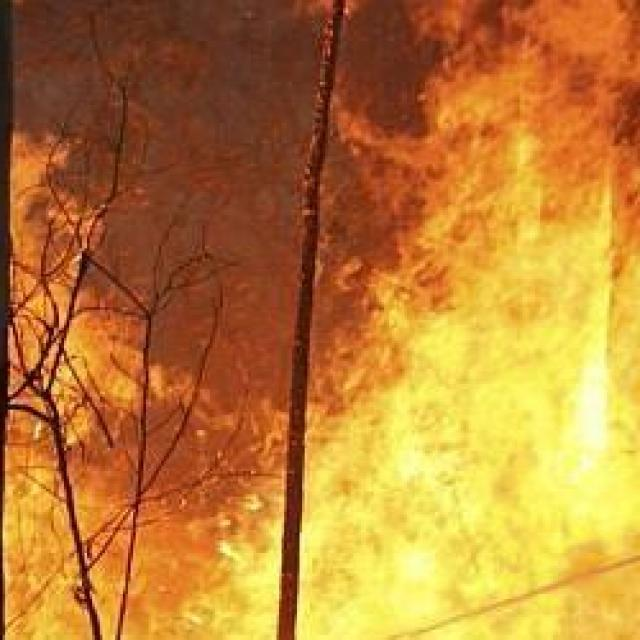fire: (394, 162, 640, 640), (5, 518, 278, 640), (308, 430, 410, 640)
